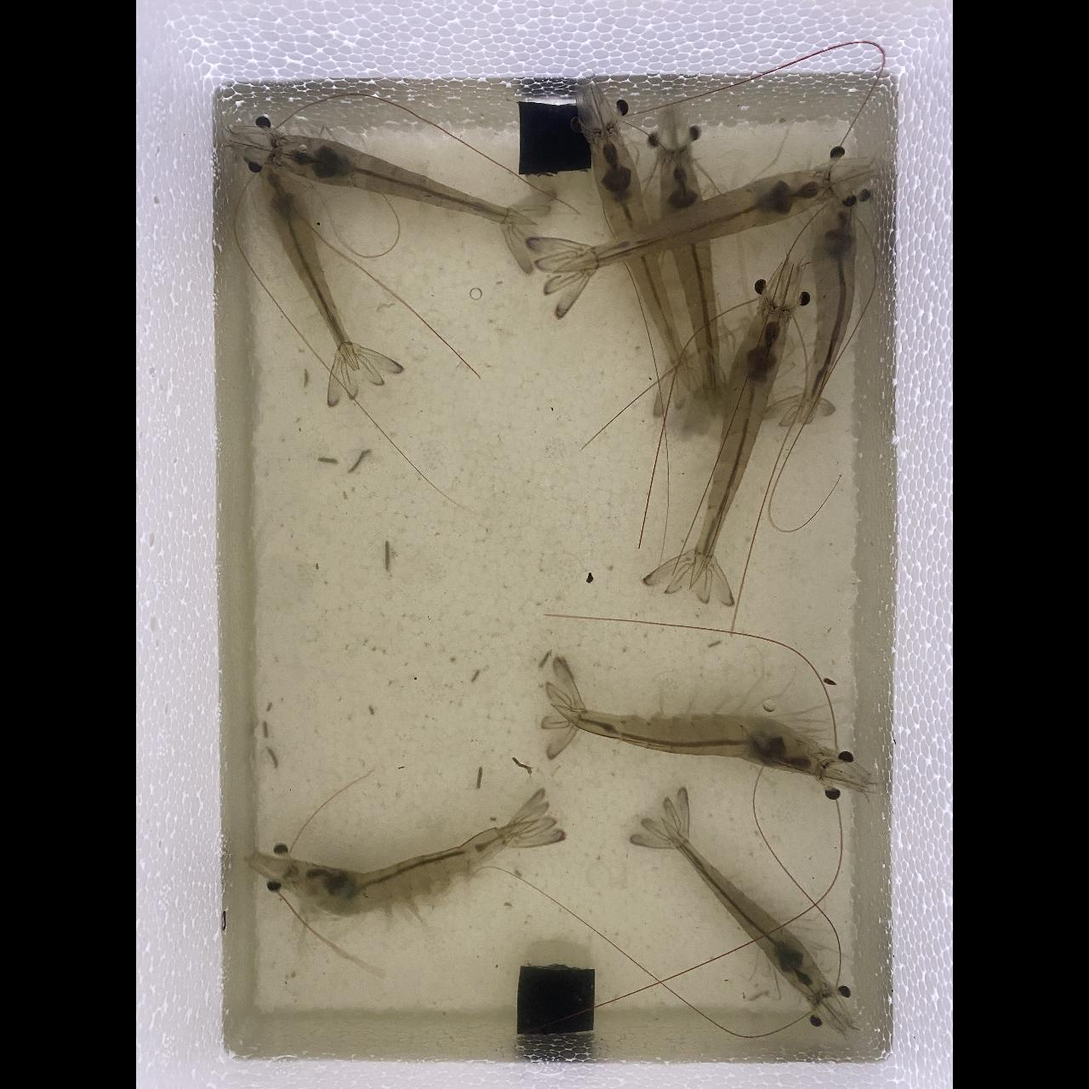box: (519, 99, 592, 175), (519, 966, 596, 1033)
side_shrimp: (293, 820, 536, 912)
top_shrimp: (660, 822, 825, 999), (556, 170, 833, 273), (693, 306, 788, 575), (592, 131, 685, 385), (274, 136, 533, 226), (260, 155, 359, 371), (558, 708, 822, 773), (660, 152, 724, 418), (797, 203, 855, 420)
